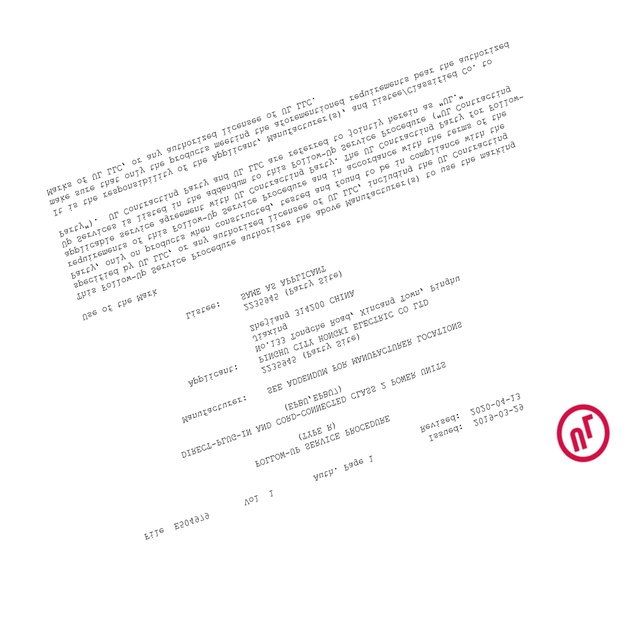ul: (557, 403, 610, 461)
